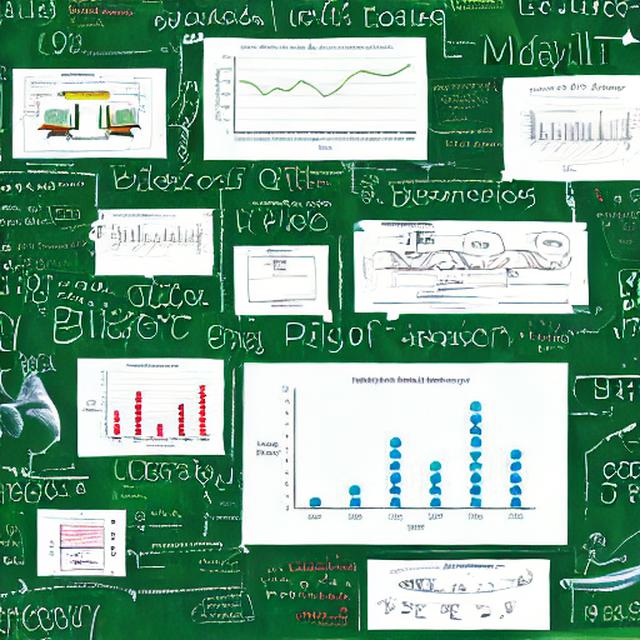Graph: (246, 366, 544, 541), (211, 40, 421, 154), (78, 361, 216, 451), (106, 213, 183, 258), (522, 109, 595, 152)
